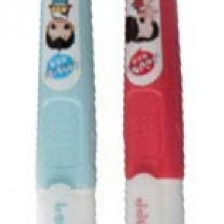correction_fluid: (33, 0, 100, 224)
